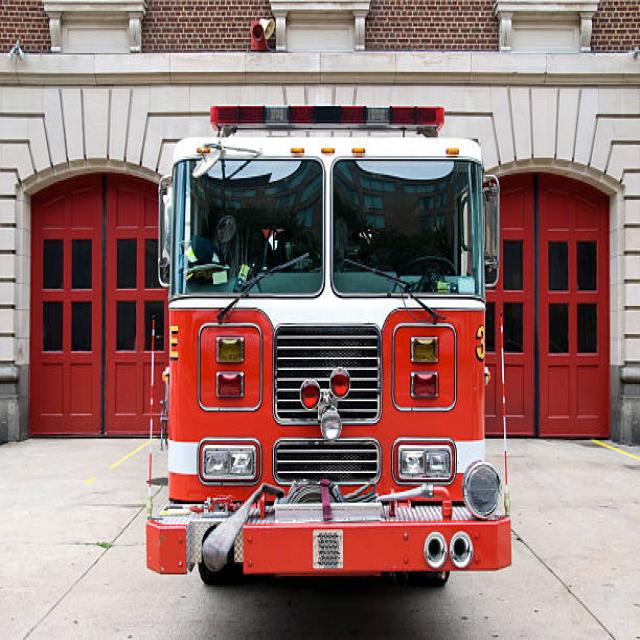emergency: (146, 106, 511, 583)
